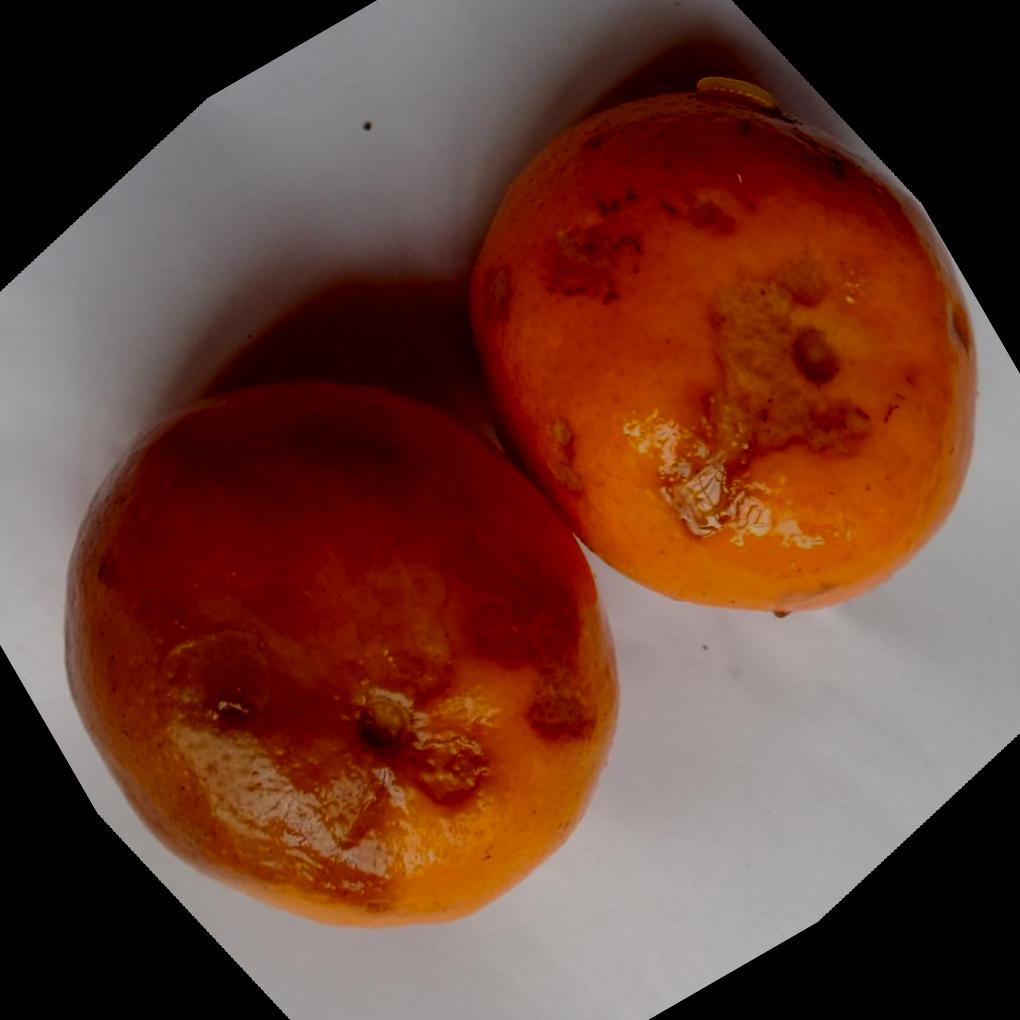FreshOrange: (59, 69, 977, 928)
